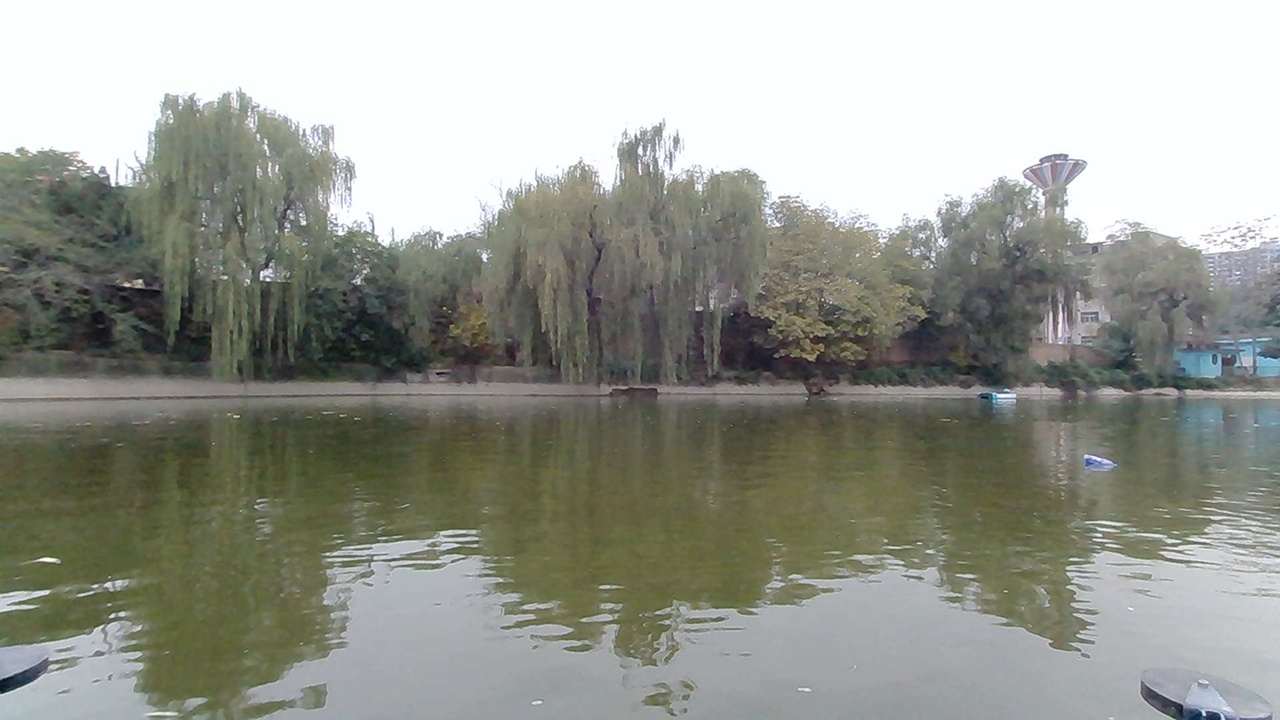bottle: (1073, 446, 1118, 480)
